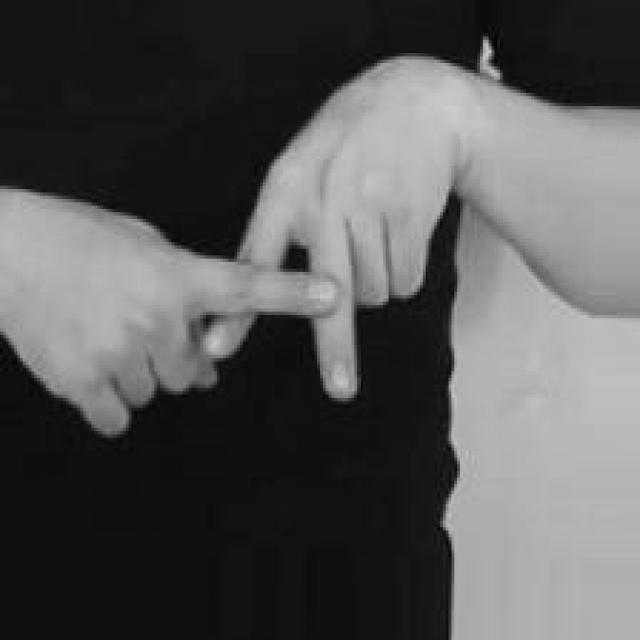A: (6, 49, 460, 439)
